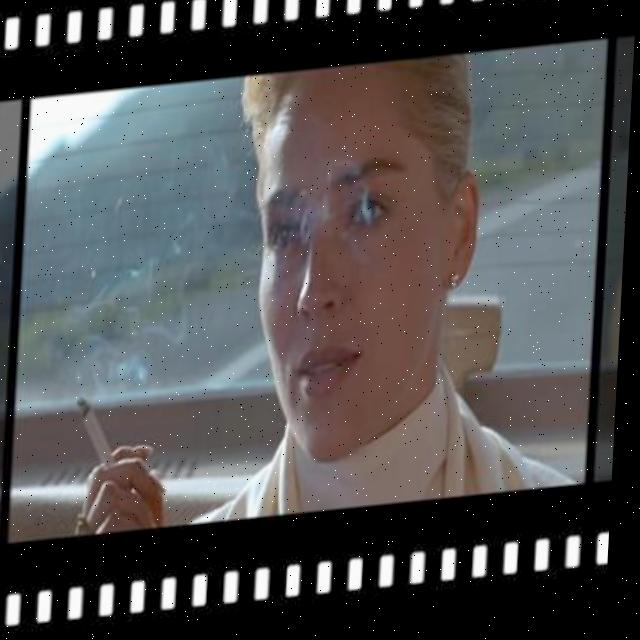cigarette: (79, 396, 123, 474)
